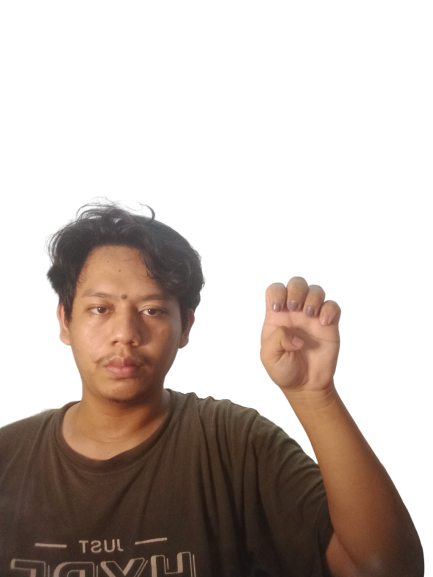E: (258, 273, 345, 397)
